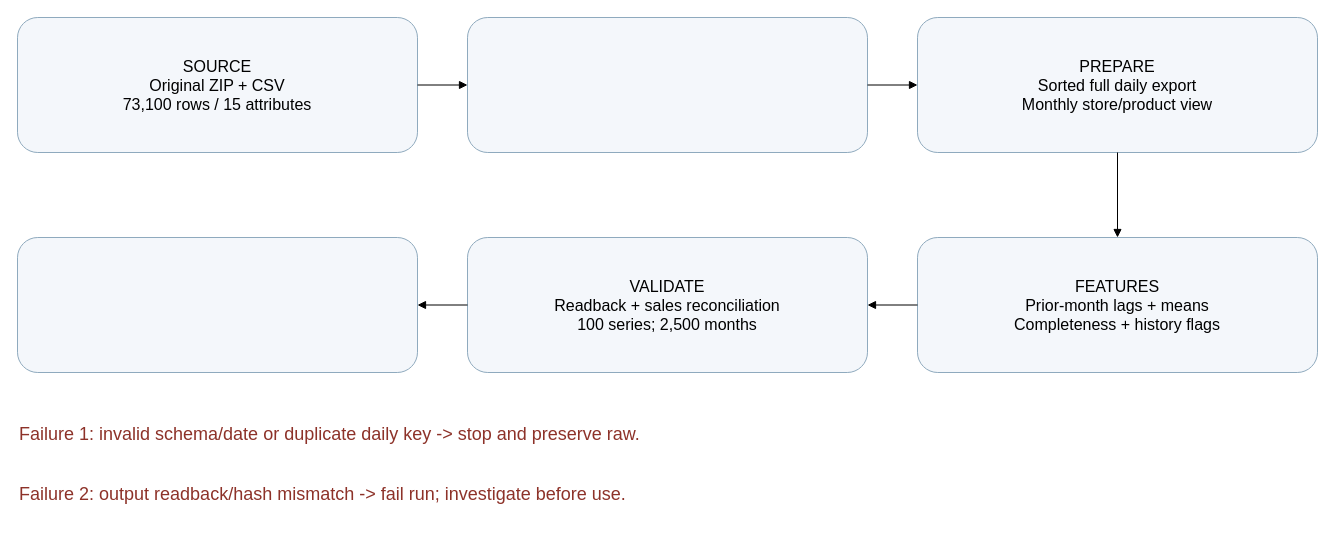
Some shapes in this 1335 by 545 pixel diagram are drawn without their labels. Each missing label, with the centre of its shape:
INGEST + INSPECT Explicit source + SHA-256 Schema, dates, series keys: (x=667, y=84)
STORE + LINEAGE Part B + Part C outputs Manifests + rerun checks: (x=217, y=304)
